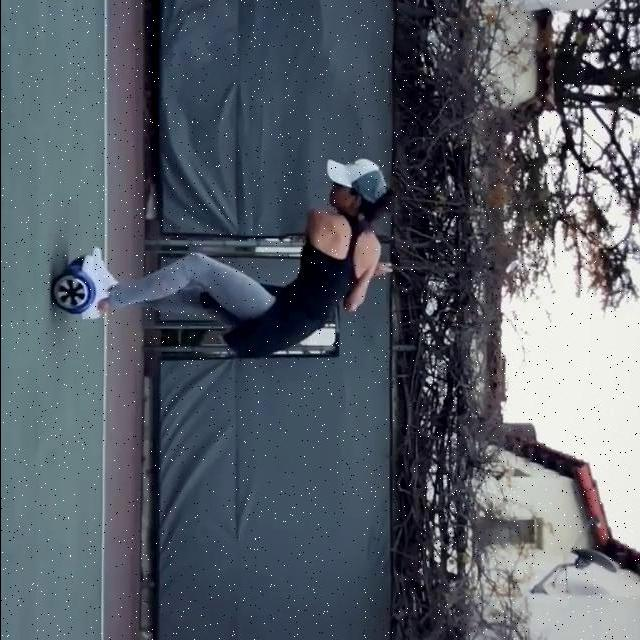golf club-handle: (376, 256, 520, 277)
golf club-head: (504, 259, 519, 275)
